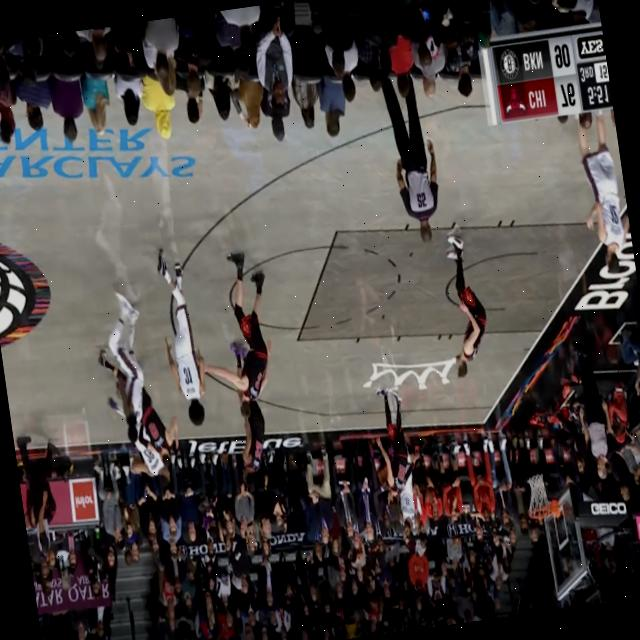no foul: (118, 233, 300, 440), (84, 293, 182, 502)
